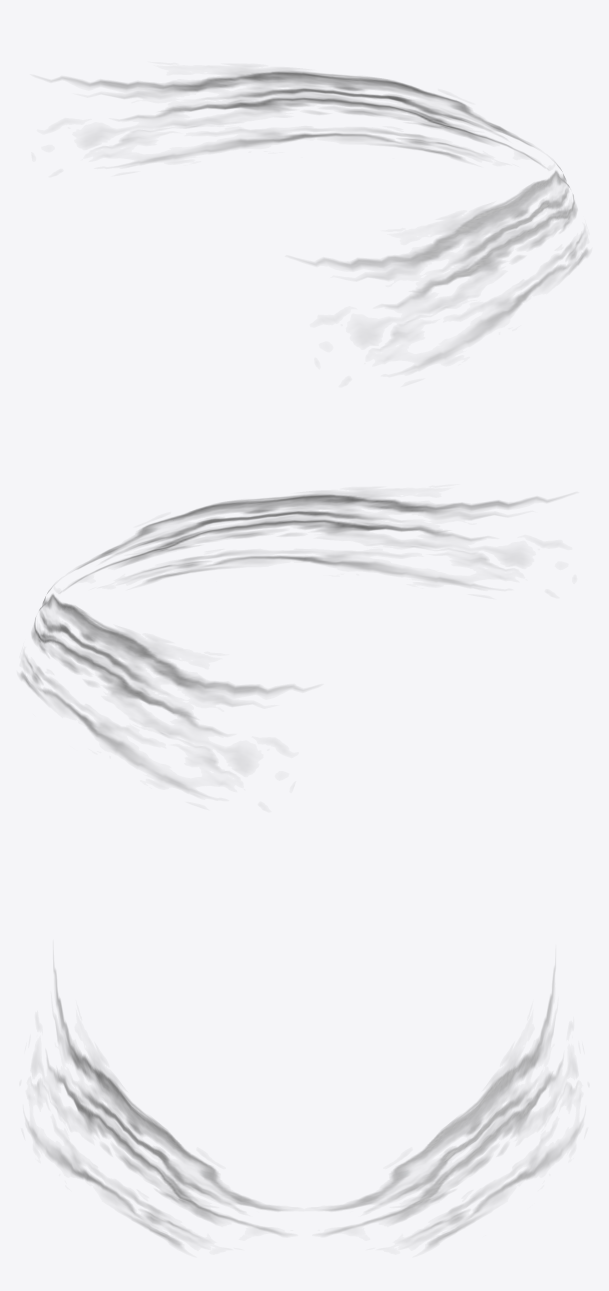
The model's file is 0434_shuiliu.glb.
3 views of the same model, one above another, from view 1: azimuth 30°, elevation 25°; view 2: azimuth 150°, elevation 25°; view 3: azimuth 270°, elevation 25° (orthographic).
Bounding box in the file's own units: 1.88 × 0.8741 × 2.2.
Materials: 1 (1 with a texture image).
